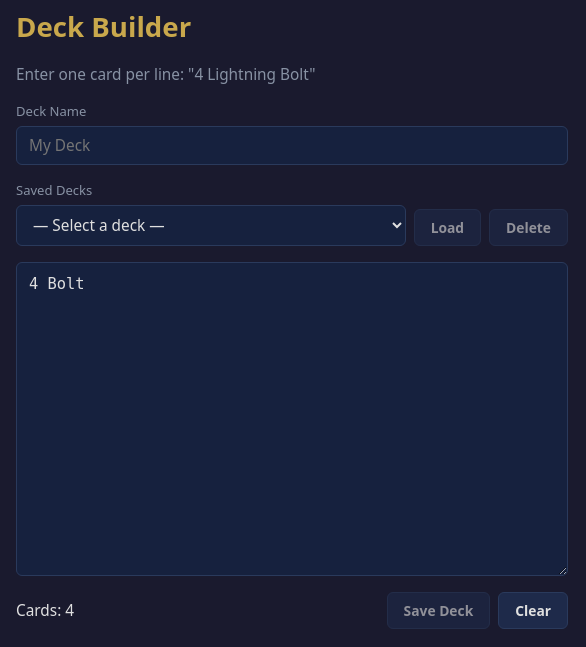
DeckBuilderPage › clears textarea on Clear button
Click the button "Clear".
click(533, 610)  # box [498, 592, 568, 629]
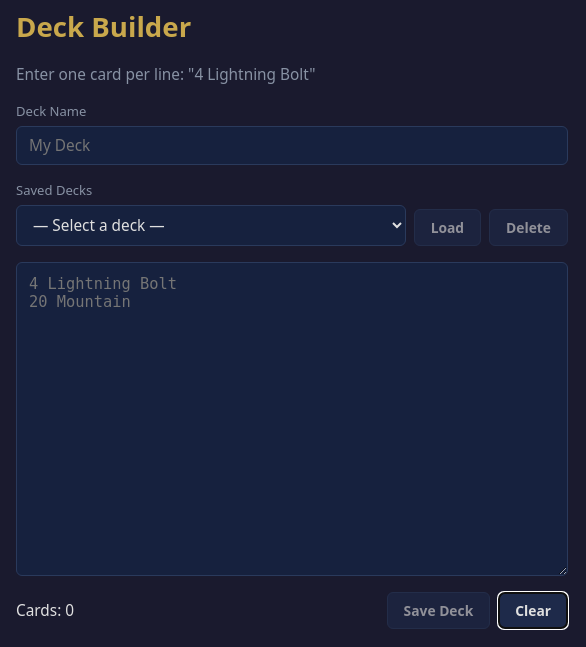
Check: the text "Cards: 0" is shown, box [16, 599, 74, 622]
